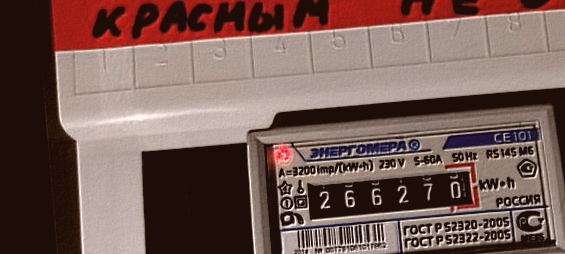0: (448, 179, 462, 201)
2: (316, 188, 332, 211), (395, 183, 409, 205)
6: (368, 186, 383, 206), (343, 188, 357, 209)
7: (420, 181, 435, 203)
screen: (296, 158, 487, 230)
